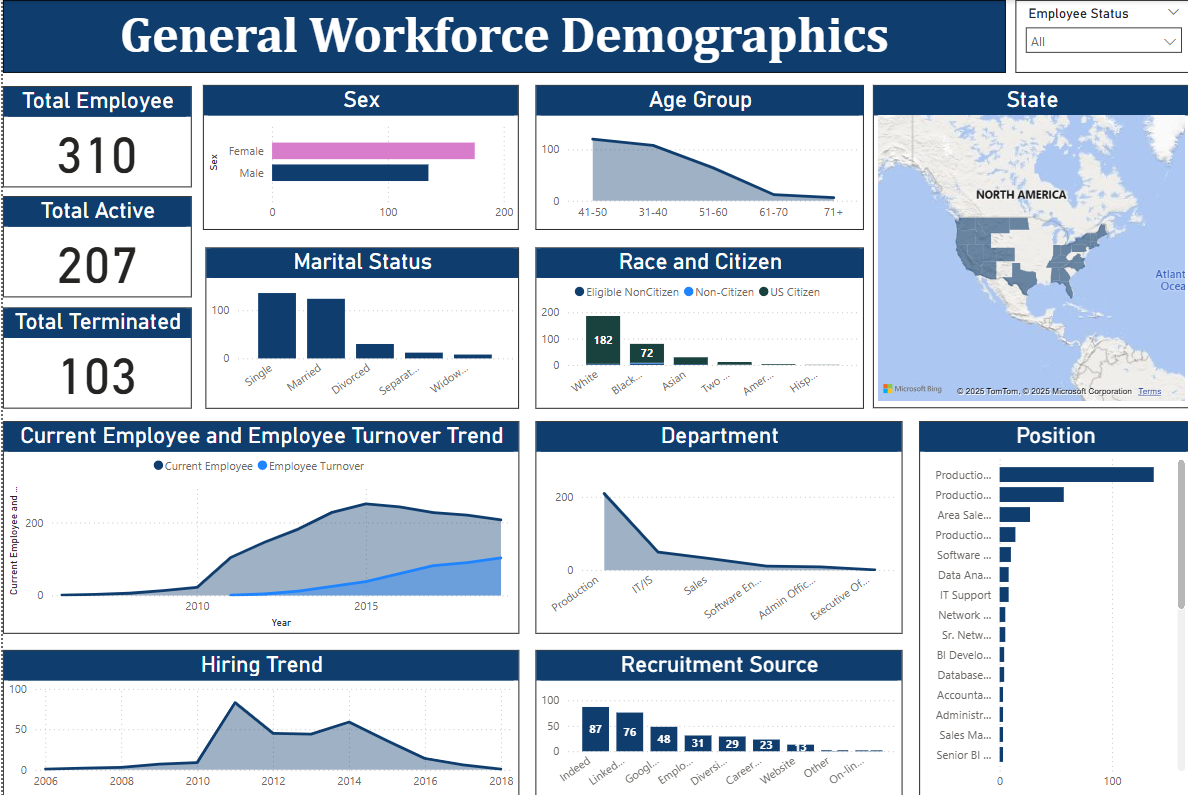

The page's visual inventory and layout, read from the dashboard file:
{"tool":"powerbi","page":{"name":"Workforce Demographics","canvas":[1280,860],"ordinal":0},"visuals":[{"type":"textbox","box":[0,0,1080,78.6],"z":0},{"type":"areaChart","title":"Age Group","fields":{"Category":["HR_Data.Age Group"],"Y":["CountNonNull(HR_Data.EmpID)"]},"box":[573.5,92.1,353.6,156],"z":1000},{"type":"columnChart","title":"Marital Status","fields":{"Category":["HR_Data.MaritalDesc"],"Y":["CountNonNull(HR_Data.EmpID)"]},"box":[218.4,266,337.3,173.8],"z":2000},{"type":"lineStackedColumnComboChart","title":"Race and Citizen","fields":{"Category":["HR_Data.RaceDesc"],"Y":["CountNonNull(HR_Data.EmpID)"],"Series":["HR_Data.CitizenDesc"]},"box":[573.5,266,353.6,173.8],"z":3000},{"type":"barChart","title":"Sex","fields":{"Category":["HR_Data.Sex"],"Y":["CountNonNull(HR_Data.EmpID)"]},"box":[215.4,92.1,340.3,156],"z":4000},{"type":"filledMap","title":"State","fields":{"Category":["HR_Data.State"]},"box":[937.6,92.1,341.7,347.7],"z":5000},{"type":"slicer","fields":{"Values":["HR_Data.EmploymentStatus"]},"box":[1090,0,190,78.6],"z":6000},{"type":"card","title":"Total Employee","fields":{"Values":["CountNonNull(HR_Data.EmpID)"]},"box":[0,92.9,202.9,108.6],"z":7000},{"type":"card","title":"Total Active","fields":{"Values":["Measure.TotalActive"]},"box":[0,211.4,202.9,108.6],"z":8000},{"type":"card","title":"Total Terminated","fields":{"Values":["Measure.TotalTerminated"]},"box":[0,331.4,202.9,108.6],"z":9000},{"type":"areaChart","title":"Current Employee and Employee Turnover Trend","fields":{"Y":["Measure.Current Employee","Measure.Employee Turnover"],"Category":["Dates.Date.Variation.Date Hierarchy.Year"]},"box":[0,453.2,555.7,228.8],"z":9001},{"type":"areaChart","title":"Hiring Trend","fields":{"Category":["HR_Data.DateofHire.Variation.Date Hierarchy.Year"],"Y":["CountNonNull(HR_Data.EmpID)"]},"box":[0,699.8,555.7,160.5],"z":9002},{"type":"areaChart","title":"Department","fields":{"Y":["CountNonNull(HR_Data.EmpID)"],"Category":["Department.Department_Name"]},"box":[573.5,453.2,395.2,228.8],"z":9003},{"type":"barChart","title":"Position","fields":{"Category":["Position.Positon Name"],"Y":["CountNonNull(HR_Data.EmpID)"]},"box":[986.6,453.2,292.7,407.1],"z":9004},{"type":"columnChart","title":"Recruitment Source","fields":{"Category":["HR_Data.RecruitmentSource"],"Y":["CountNonNull(HR_Data.EmpID)"]},"box":[573.5,699.8,395.2,160.5],"z":9005}]}

Visuals, with their boxes in screenshot pixels (x1, y1, x2, y2), scaled from the page's 1280x860 canvas onto the 1188x795 screenshot:
textbox: box(0, 0, 1002, 73)
"Age Group" areaChart: box(532, 85, 860, 229)
"Marital Status" columnChart: box(203, 246, 516, 407)
"Race and Citizen" lineStackedColumnComboChart: box(532, 246, 860, 407)
"Sex" barChart: box(200, 85, 516, 229)
"State" filledMap: box(870, 85, 1187, 407)
slicer - HR_Data.EmploymentStatus: box(1012, 0, 1187, 73)
"Total Employee" card: box(0, 86, 188, 186)
"Total Active" card: box(0, 195, 188, 296)
"Total Terminated" card: box(0, 306, 188, 407)
"Current Employee and Employee Turnover Trend" areaChart: box(0, 419, 516, 630)
"Hiring Trend" areaChart: box(0, 647, 516, 794)
"Department" areaChart: box(532, 419, 899, 630)
"Position" barChart: box(916, 419, 1187, 794)
"Recruitment Source" columnChart: box(532, 647, 899, 794)
